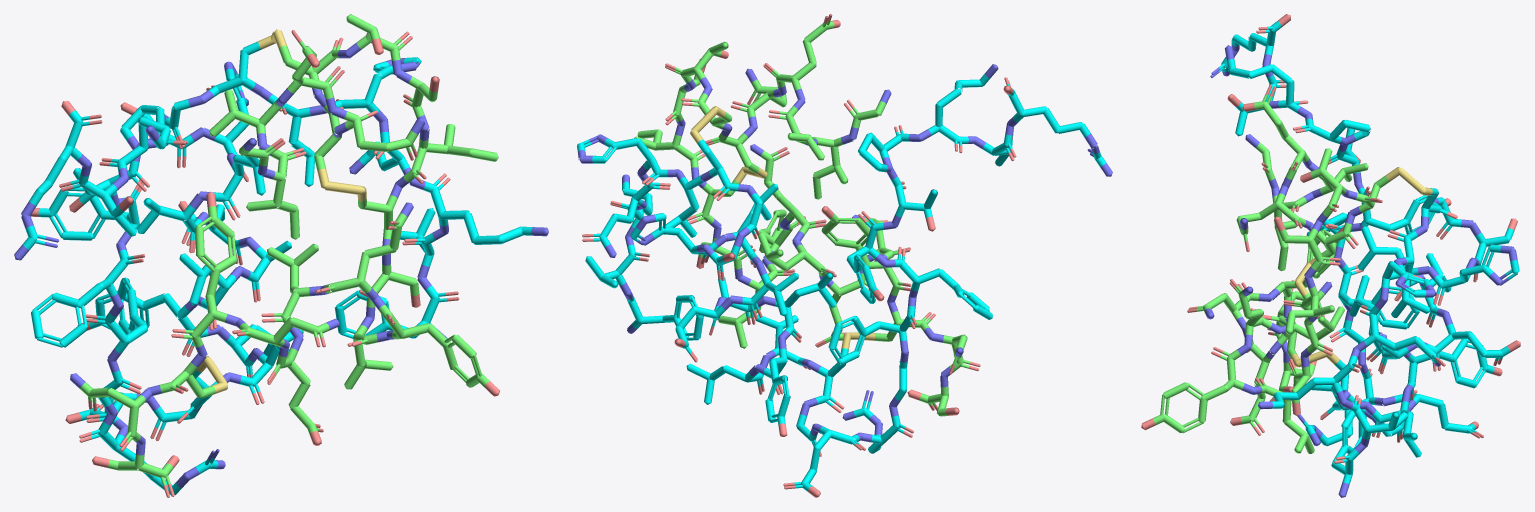
The model's file is insulin3.gltf.
3 views of the same model, side by side, from view 1: azimuth 30°, elevation 25°; view 2: azimuth 150°, elevation 25°; view 3: azimuth 270°, elevation 25° (orthographic). The views are drawn at different scales.
Bounding box in the file's own units: 3.46e-09 × 2.79e-09 × 2.41e-09.
